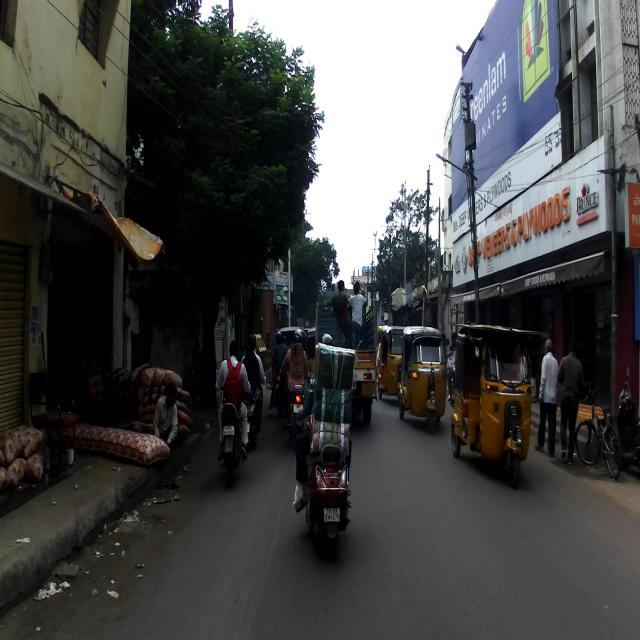autorickshaw: (449, 320, 549, 489), (397, 325, 449, 434)
motorcycle: (217, 382, 250, 489)
scooter: (298, 403, 352, 559)
